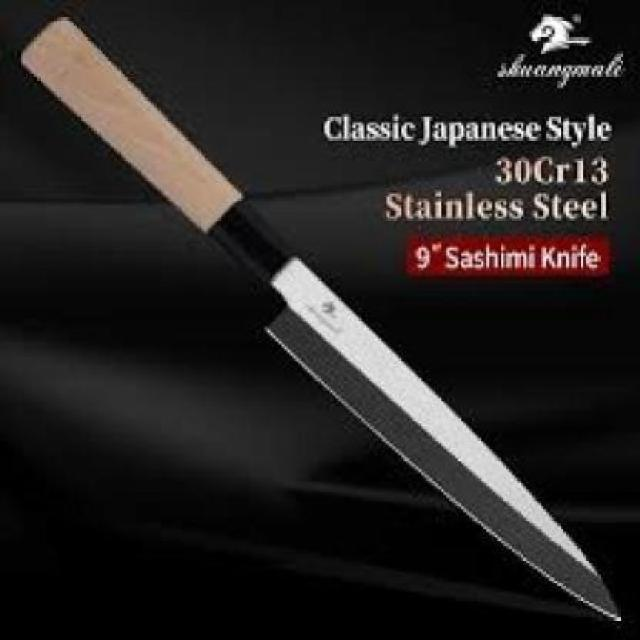knife: (21, 20, 620, 622)
